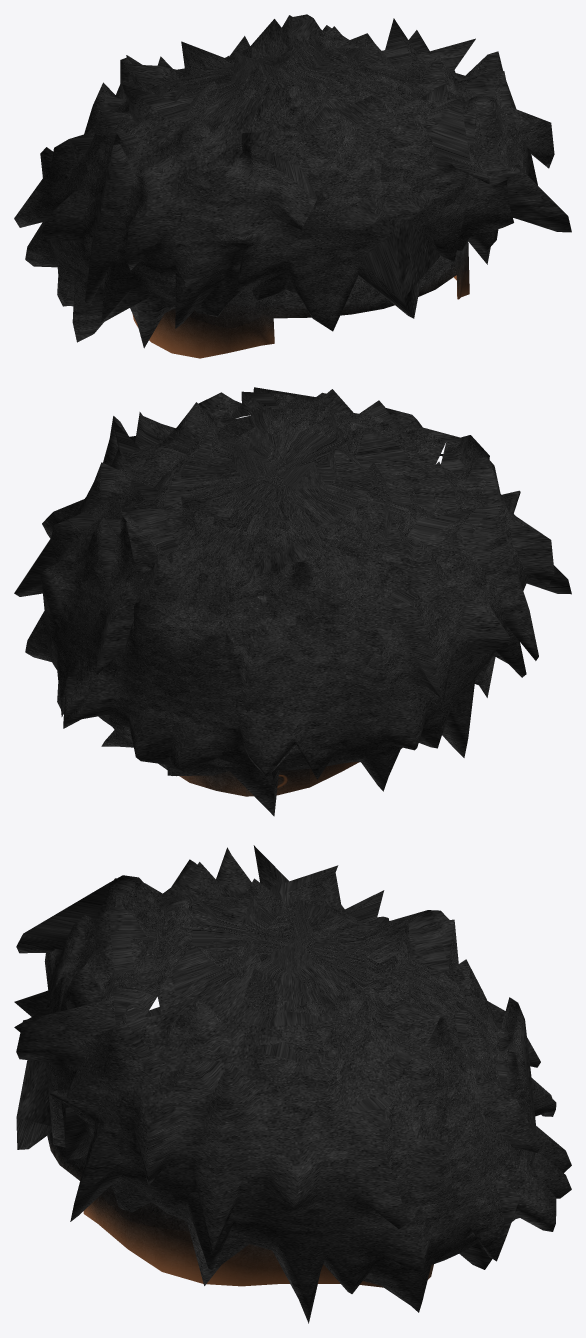
3 renders of one model, top to bottom at view 1: azimuth 30°, elevation 25°; view 2: azimuth 150°, elevation 25°; view 3: azimuth 270°, elevation 25°, orthographic. The views are drawn at different scales.
Visible parts, largest first — view 1: geometry_0; view 2: geometry_0; view 3: geometry_0.
Boxes of the visible parts, left/top/right/bottom form: geometry_0: left=14, top=14, right=571, bottom=358; geometry_0: left=14, top=387, right=571, bottom=816; geometry_0: left=14, top=845, right=571, bottom=1323.
Size of the model in its own units: 1.96 by 1.19 by 1.75.
Materials: 1 (1 with a texture image).
